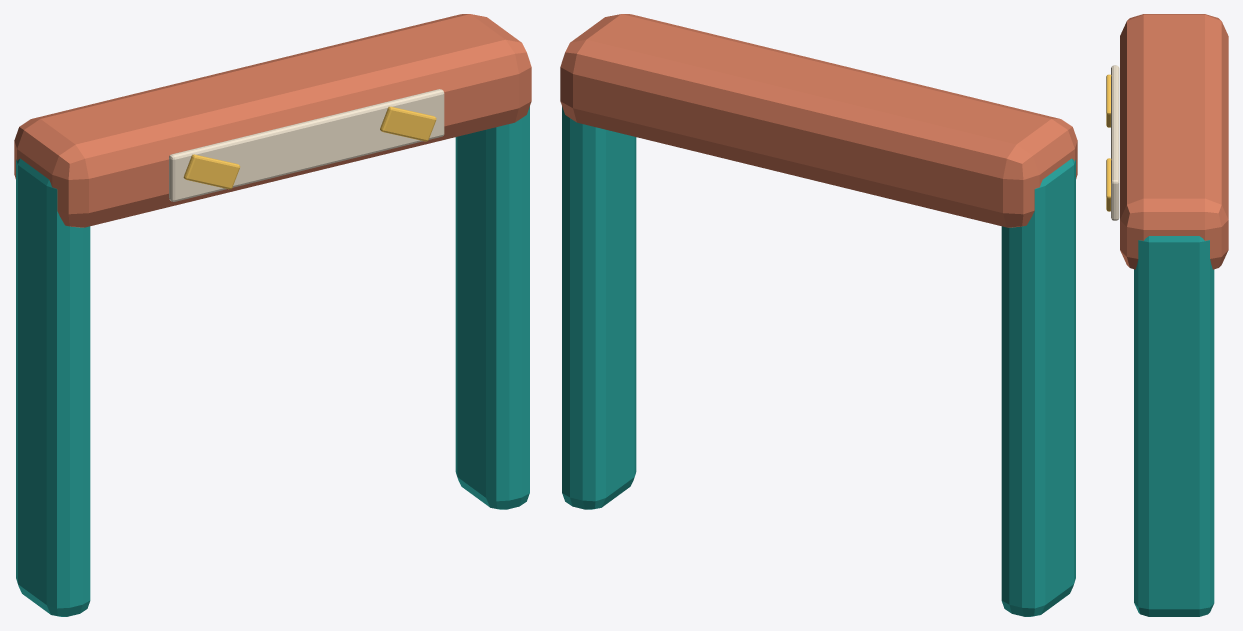
File: CR_SlideGate.fbx
3 views of the same model, side by side, from view 1: azimuth 30°, elevation 25°; view 2: azimuth 150°, elevation 25°; view 3: azimuth 270°, elevation 25° (orthographic). The views are drawn at different scales.
Visible parts, largest first — view 1: Beam_Terracotta, Post_Teal_L, Post_Teal_R, Panel_Cream, Warning_Gold.001, Warning_Gold; view 2: Beam_Terracotta, Post_Teal_L, Post_Teal_R; view 3: Post_Teal_R, Beam_Terracotta, Panel_Cream, Warning_Gold.001, Warning_Gold.
Part boxes in pixels (x1,y1,x2,y2): Beam_Terracotta: (14,14,531,227); Post_Teal_L: (16,158,90,616); Post_Teal_R: (455,106,529,509); Panel_Cream: (169,89,444,201); Warning_Gold.001: (380,106,436,141); Warning_Gold: (183,154,240,189); Beam_Terracotta: (560,14,1077,227); Post_Teal_L: (1001,158,1075,616); Post_Teal_R: (562,106,636,509); Post_Teal_R: (1134,236,1214,616); Beam_Terracotta: (1120,14,1228,269); Panel_Cream: (1111,65,1119,220); Warning_Gold.001: (1106,158,1111,211); Warning_Gold: (1106,74,1111,127).
Size of the model in its own units: 2.06 by 1.93 by 0.5175.
